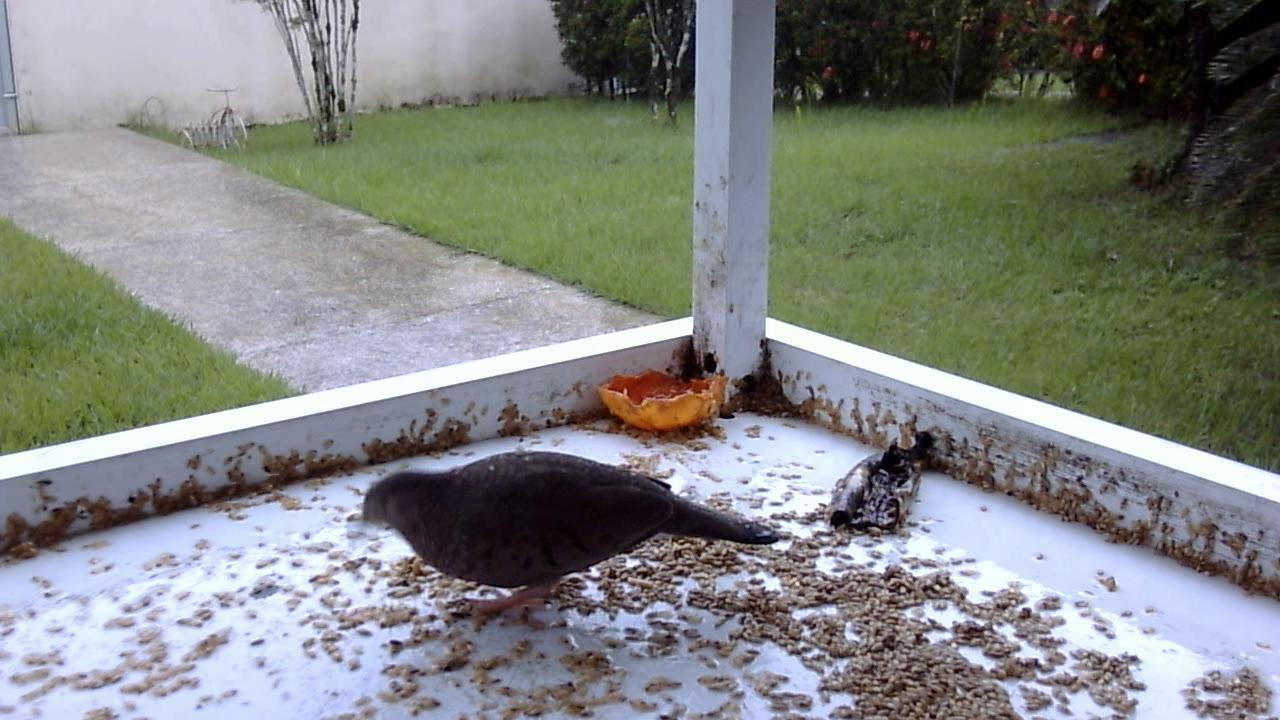rolinha: (348, 436, 799, 630)
